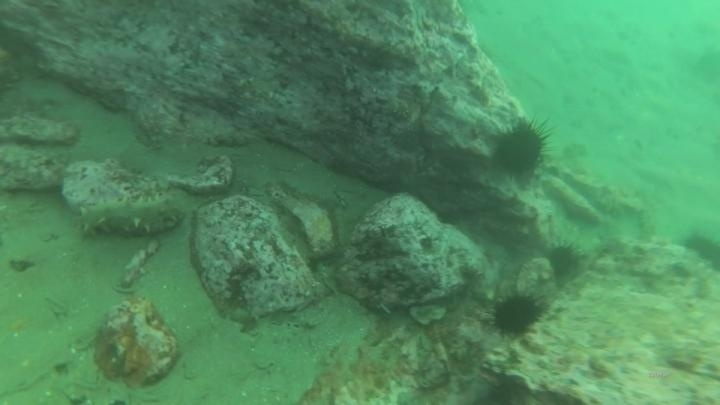echinus: (487, 115, 554, 183), (489, 290, 545, 340), (680, 230, 720, 273), (544, 241, 582, 282)
holothurian: (74, 193, 186, 242)
